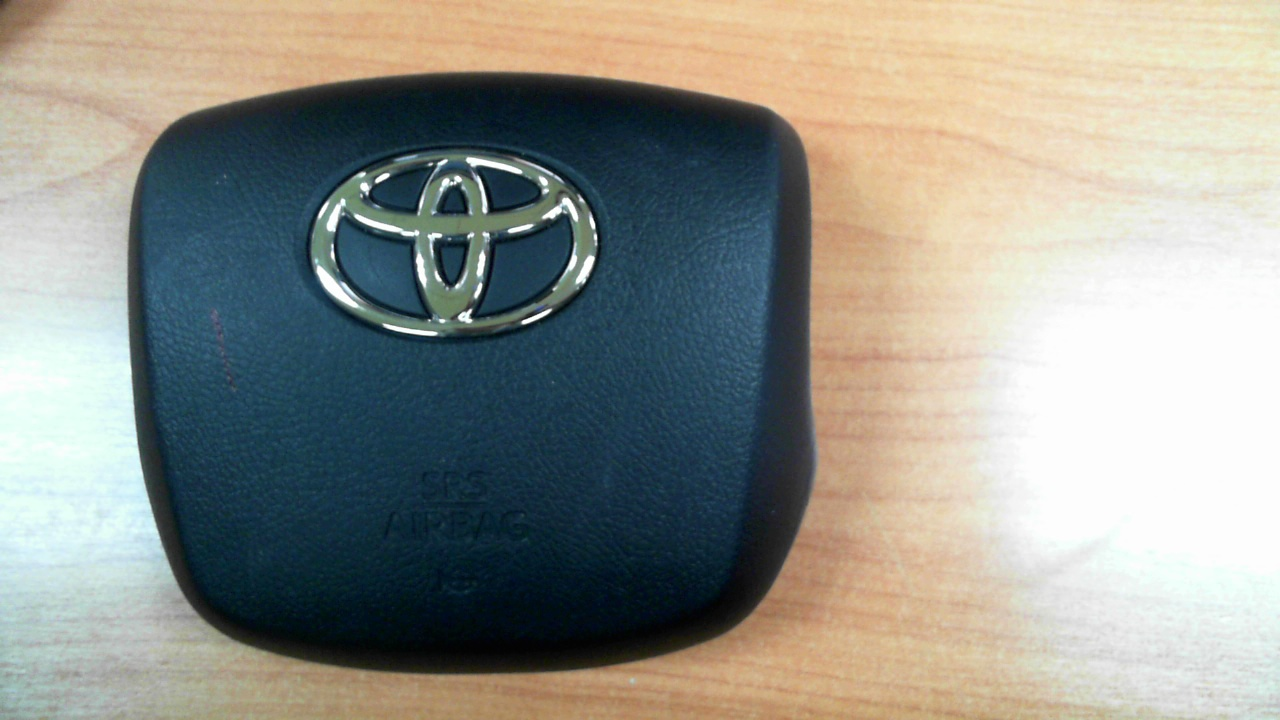Airbag: (127, 72, 817, 677)
Toyota: (310, 148, 599, 338)
